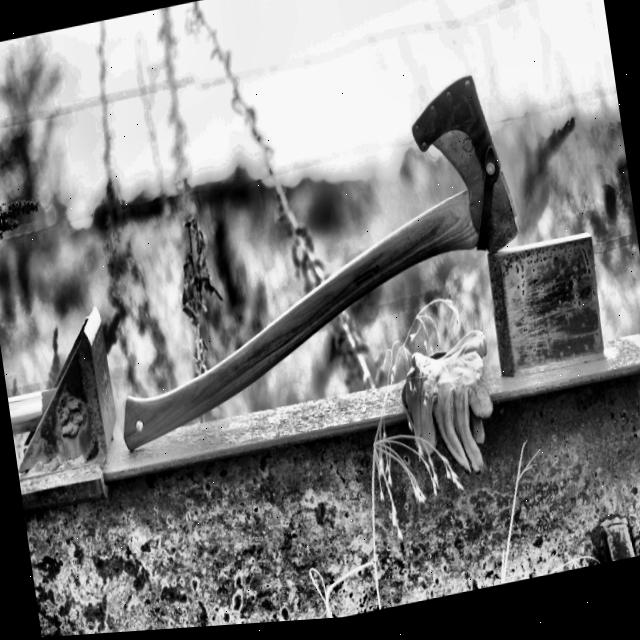kapak: (80, 48, 556, 480)
